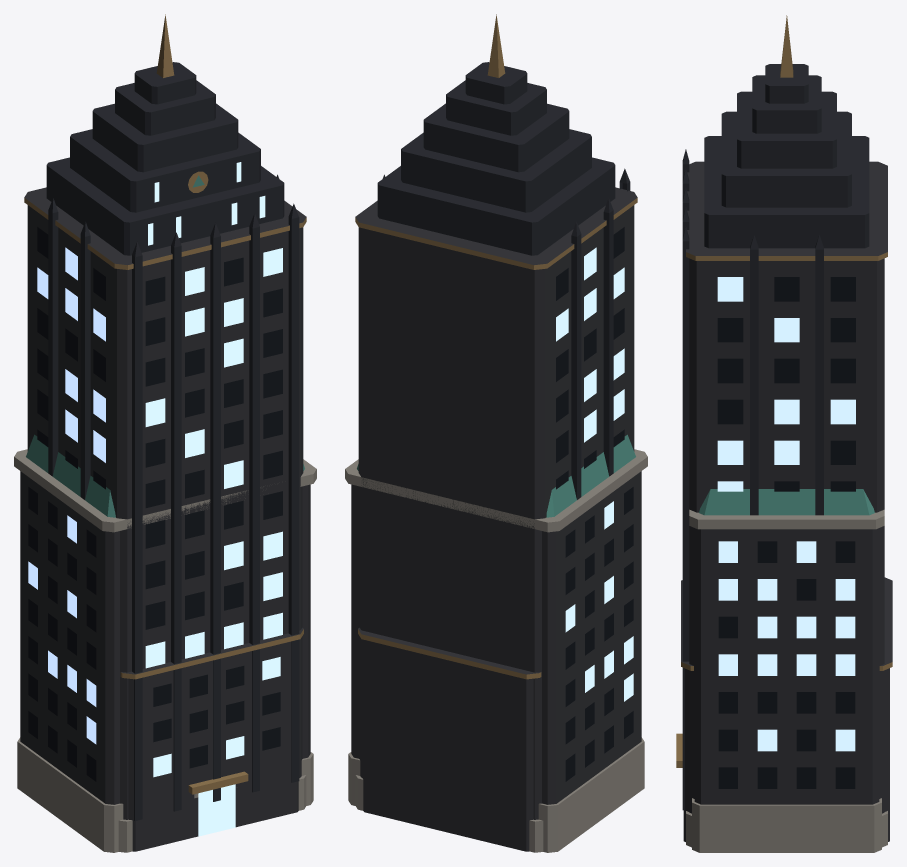
File: cidade-kit.glb
The picture shows the model from 3 angles, left to right: view 1: azimuth 30°, elevation 25°; view 2: azimuth 150°, elevation 25°; view 3: azimuth 270°, elevation 25°; orthographic projection.
Visible parts, largest first — view 1: bldg_E, bldg_C, bldg_D; view 2: bldg_E, bldg_C, bldg_D; view 3: bldg_E, bldg_C, bldg_D.
Boxes of the visible parts, <box> form: bldg_E: <box>24,14,306,852</box>; bldg_C: <box>14,434,316,852</box>; bldg_D: <box>120,627,303,851</box>; bldg_E: <box>355,14,637,852</box>; bldg_C: <box>345,434,647,852</box>; bldg_D: <box>358,627,541,851</box>; bldg_E: <box>682,15,887,847</box>; bldg_C: <box>689,489,884,852</box>; bldg_D: <box>676,577,892,841</box>.
Bounding box in the file's own units: 11.5 × 40.03 × 9.97.
